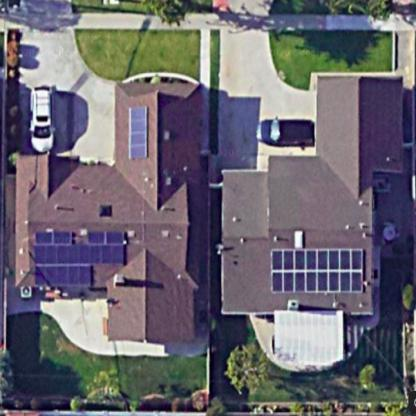car: (254, 113, 321, 147), (29, 83, 60, 153)
solar_panel: (36, 227, 136, 296), (267, 241, 369, 302), (125, 94, 158, 167)
